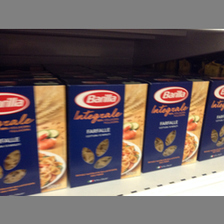pasta: (64, 77, 149, 186), (1, 78, 67, 195), (138, 76, 209, 173)
